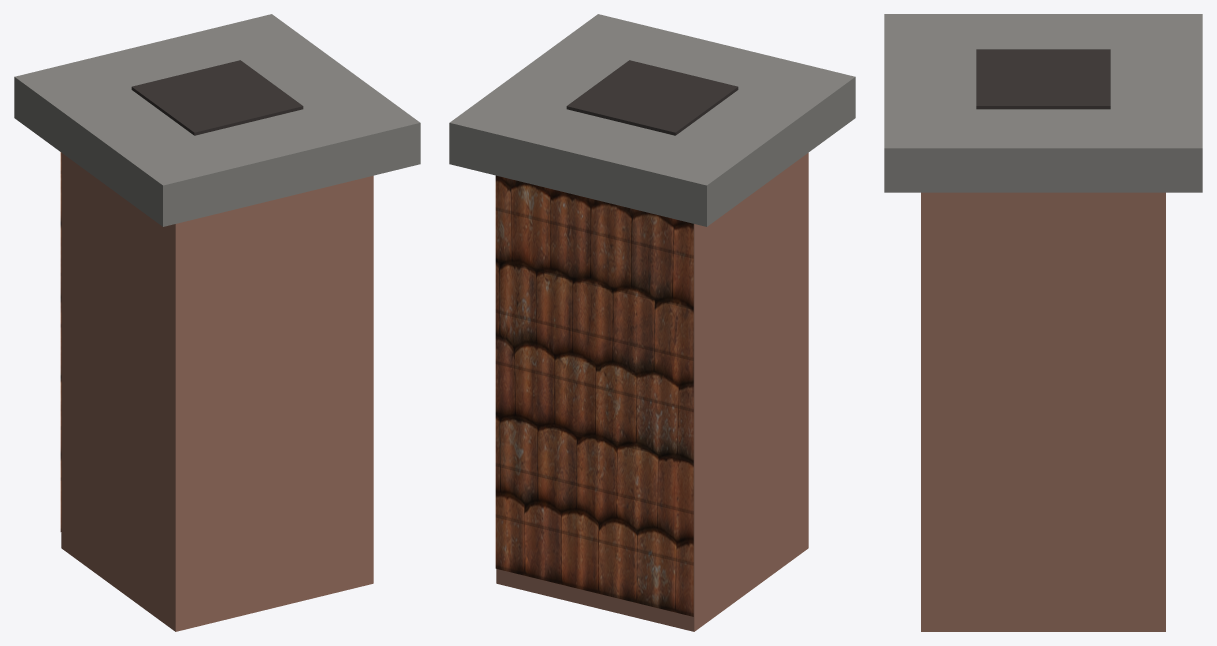
File: kamin_ziegel_1_7m.glb
The picture shows the model from 3 angles, left to right: view 1: azimuth 30°, elevation 25°; view 2: azimuth 150°, elevation 25°; view 3: azimuth 270°, elevation 25°; orthographic projection. The views are drawn at different scales.
Parts seen in each view (by area): view 1: chimney_body, chimney_cap, chimney_top_opening, chimney_front; view 2: chimney_front, chimney_body, chimney_cap, chimney_top_opening; view 3: chimney_body, chimney_cap, chimney_top_opening.
Boxes of the visible parts, x1,y1,x2,y2 form: chimney_body: (61, 153, 373, 631); chimney_cap: (14, 14, 420, 226); chimney_top_opening: (131, 60, 303, 135); chimney_front: (60, 152, 61, 531); chimney_front: (495, 175, 693, 616); chimney_body: (496, 153, 808, 631); chimney_cap: (449, 14, 855, 226); chimney_top_opening: (566, 60, 738, 135); chimney_body: (921, 192, 1165, 631); chimney_cap: (884, 14, 1202, 192); chimney_top_opening: (976, 49, 1110, 109).
Bounding box in the file's own units: 1.04 × 1.81 × 1.04.
1 material, 1 textured.
